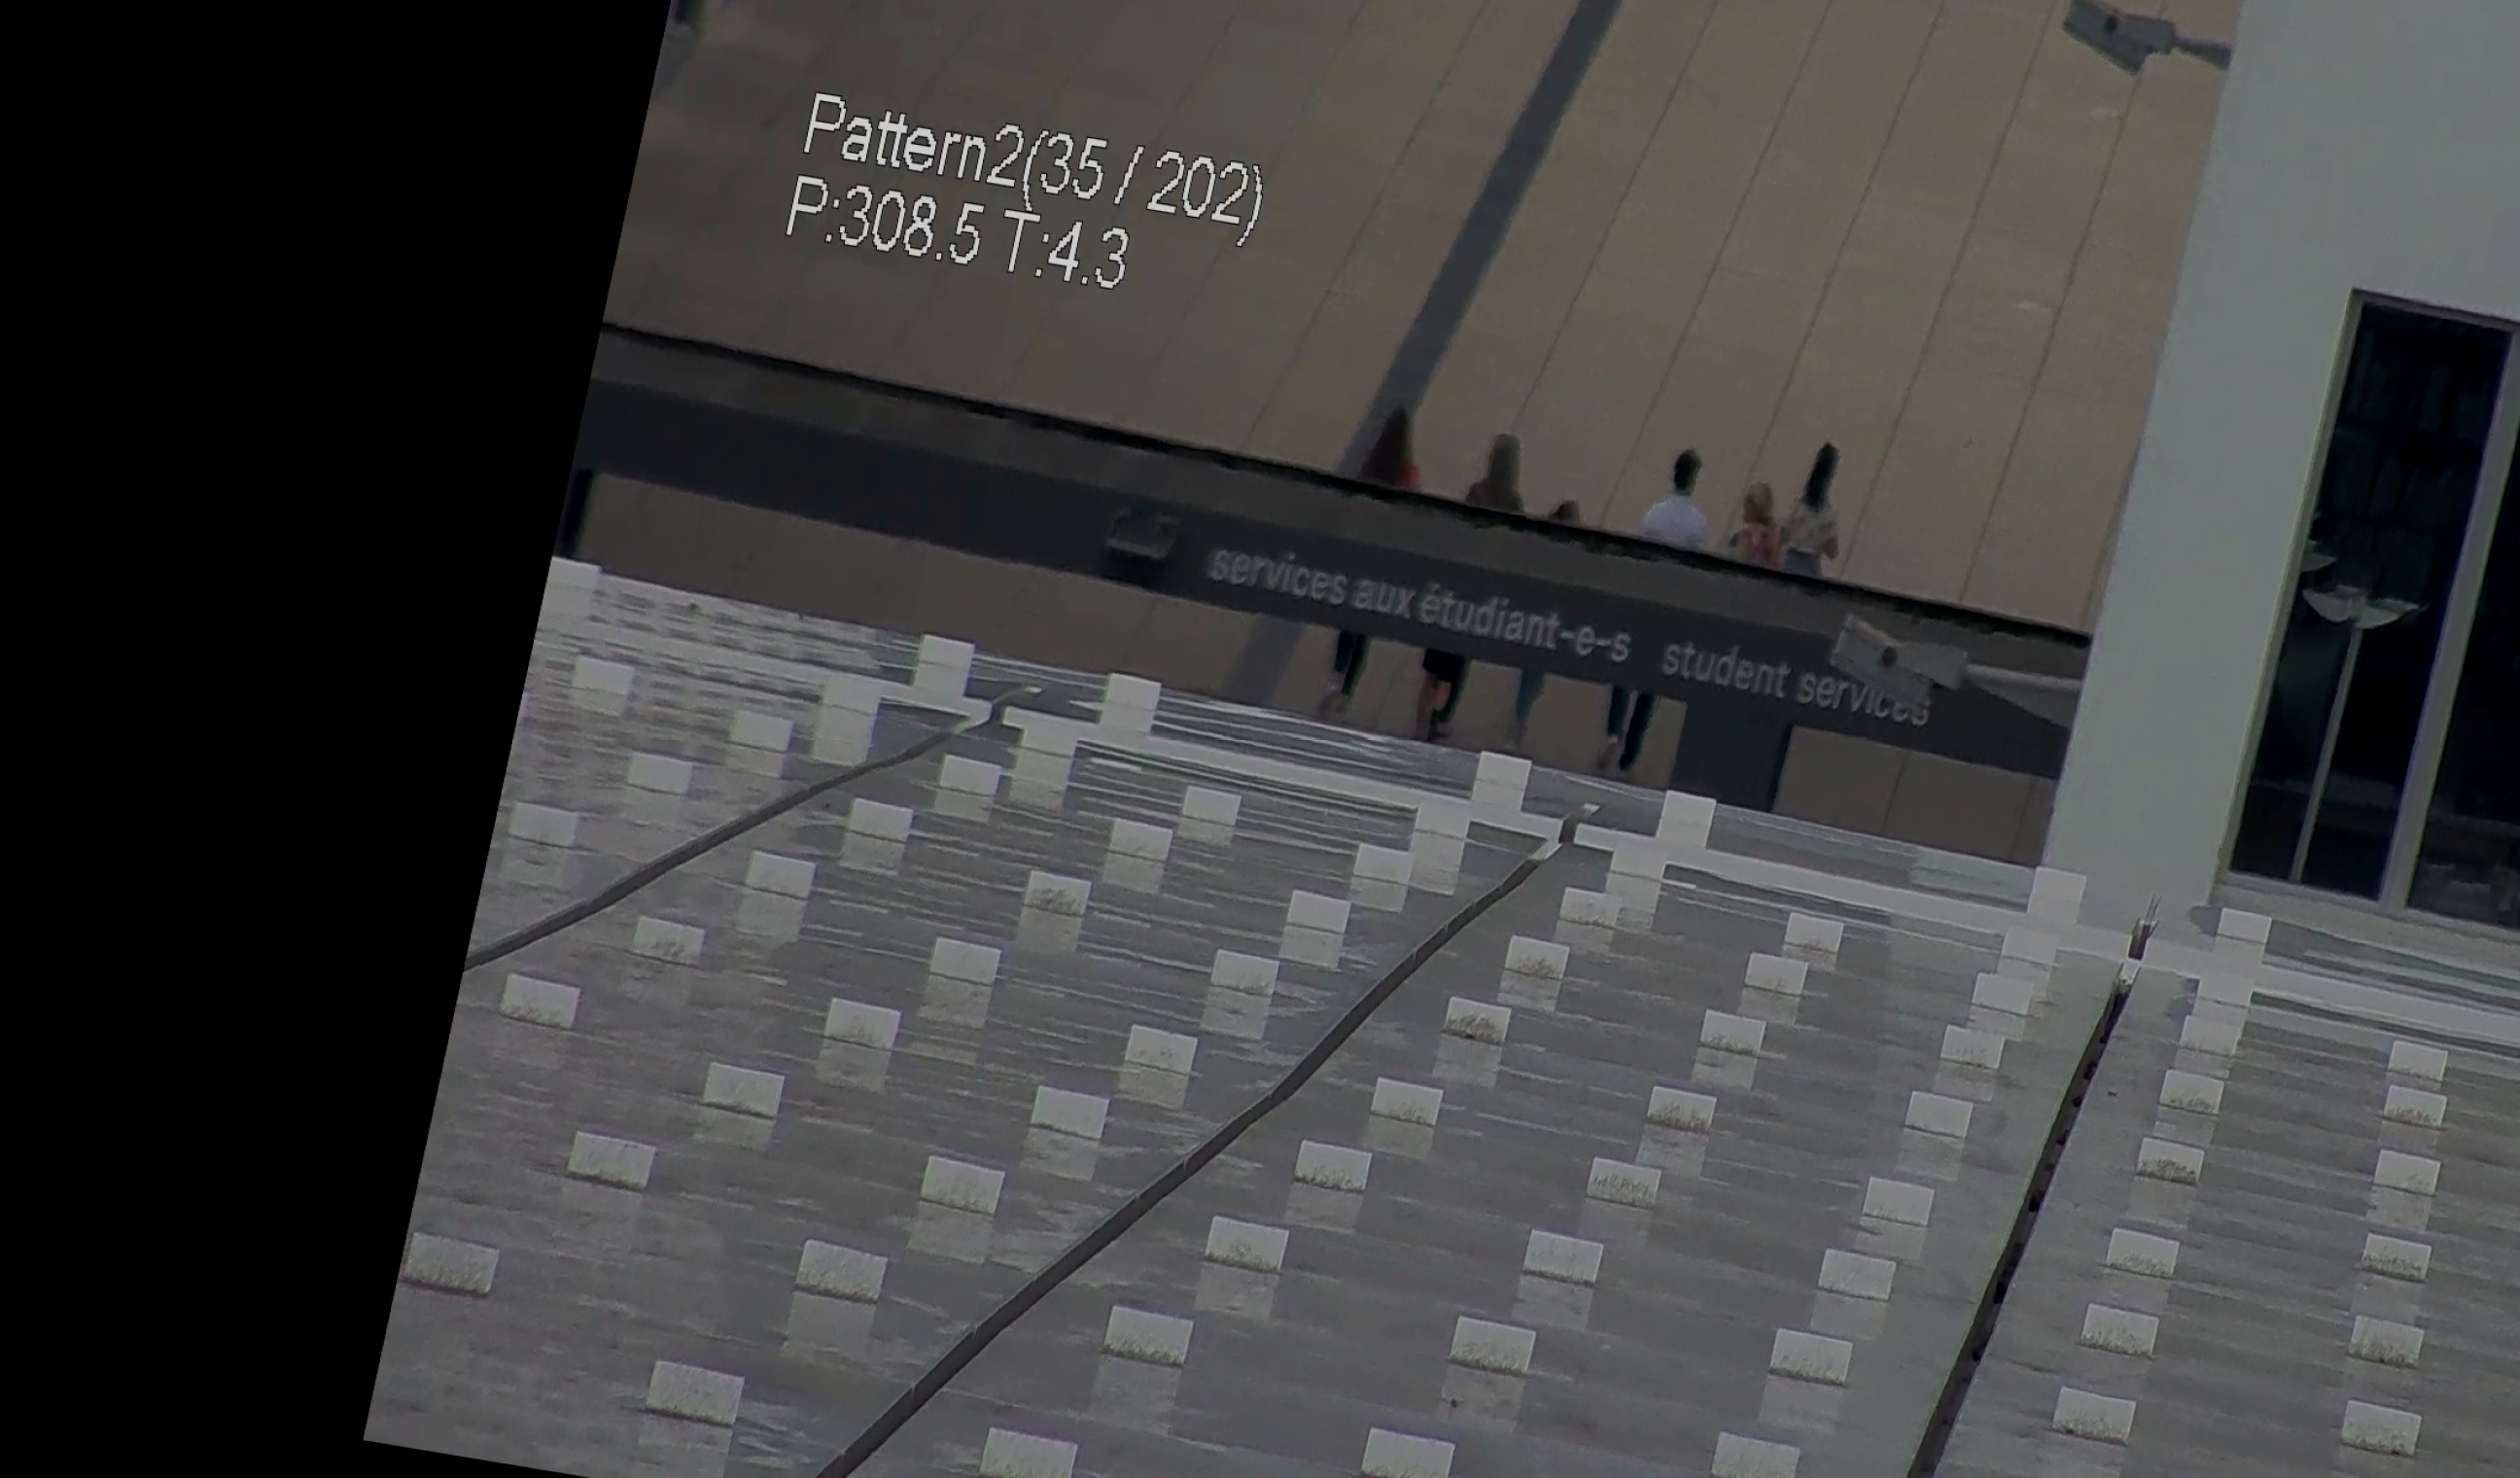Other: (1748, 428, 1864, 586)
